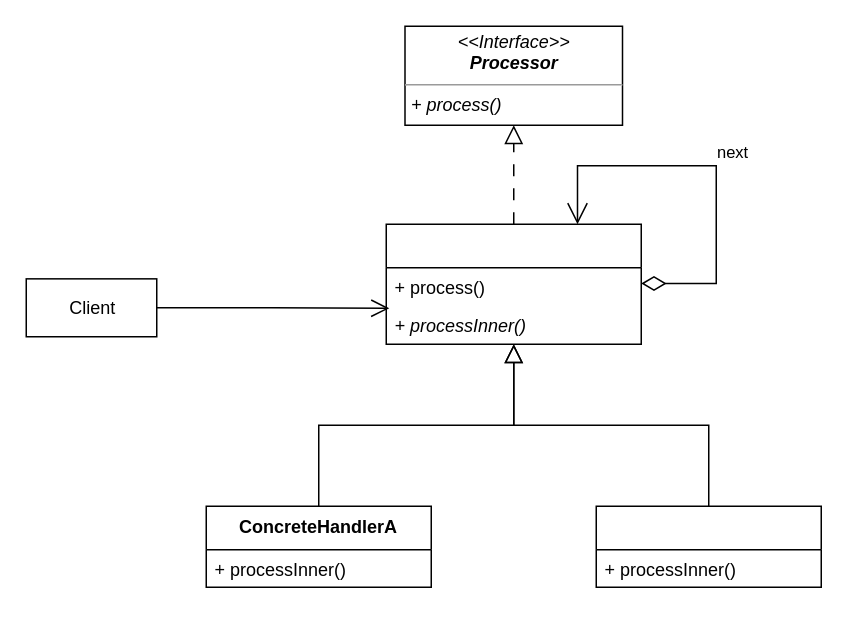
Some shapes in this 848 by 618 pixel diagram are drawn without their labels. The box of each missing label's shape, as (x1, y1, x2, y2) in pixels:
AbstractProcessor: (385, 223, 641, 344)
ConcreteHandlerB: (595, 505, 821, 587)
